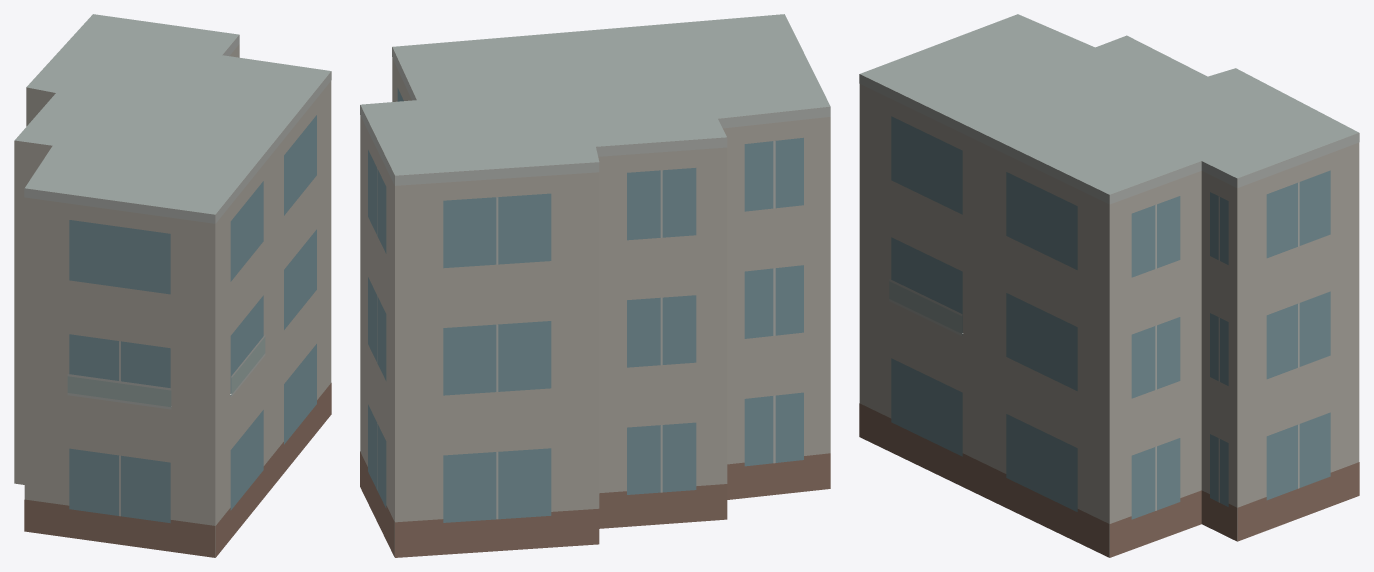
File: survey-upis-32709741.glb
The picture shows the model from 3 angles, left to right: view 1: azimuth 30°, elevation 25°; view 2: azimuth 150°, elevation 25°; view 3: azimuth 270°, elevation 25°; orthographic projection. The views are drawn at different scales.
Parts seen in each view (by area): view 1: survey-upis-32709741.tmp; view 2: survey-upis-32709741.tmp; view 3: survey-upis-32709741.tmp.
Boxes of the visible parts, x1=… form: survey-upis-32709741.tmp: x1=14, y1=14, x2=331, y2=557; survey-upis-32709741.tmp: x1=360, y1=14, x2=830, y2=557; survey-upis-32709741.tmp: x1=859, y1=14, x2=1359, y2=557.
Size of the model in its own units: 9.78 by 9.15 by 11.43.
